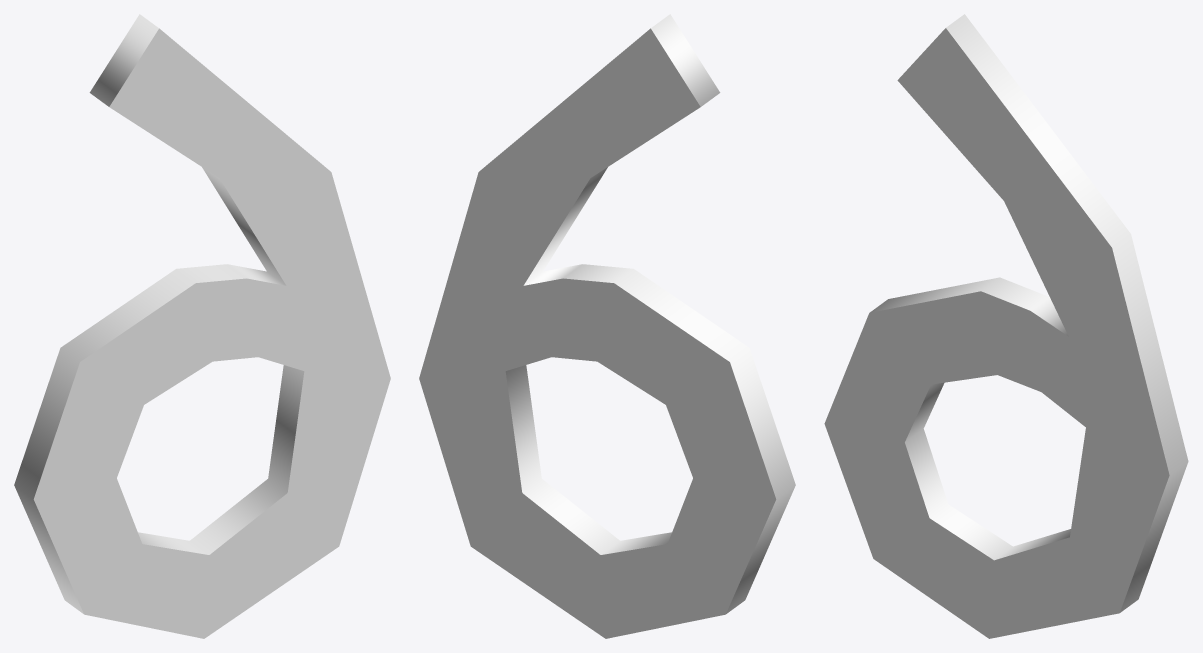
Rendered from Six.obj.
The picture shows the model from 3 angles, left to right: view 1: azimuth 30°, elevation 25°; view 2: azimuth 150°, elevation 25°; view 3: azimuth 330°, elevation 25°; orthographic projection. The views are drawn at different scales.
Parts seen in each view (by area): view 1: テキスト; view 2: テキスト; view 3: テキスト.
Part boxes in pixels (x1,y1,x2,y2): テキスト: (14, 14, 390, 638); テキスト: (419, 14, 795, 638); テキスト: (824, 14, 1188, 638).
Bounding box in the file's own units: 0.421 × 0.7 × 0.04.
1 material, 1 textured.
